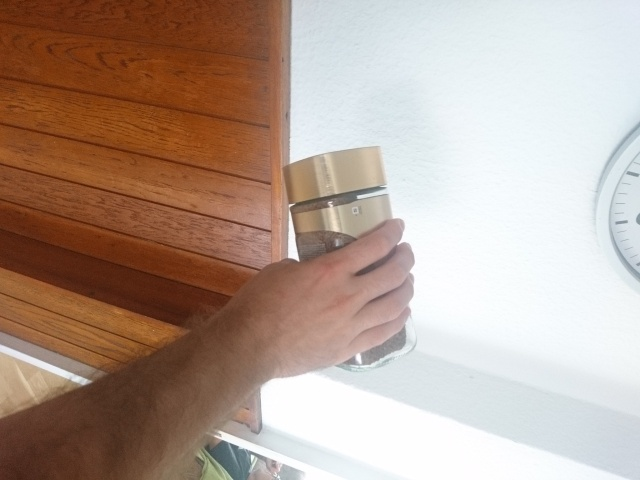Nescafe Gold 225g: (279, 143, 420, 375)
